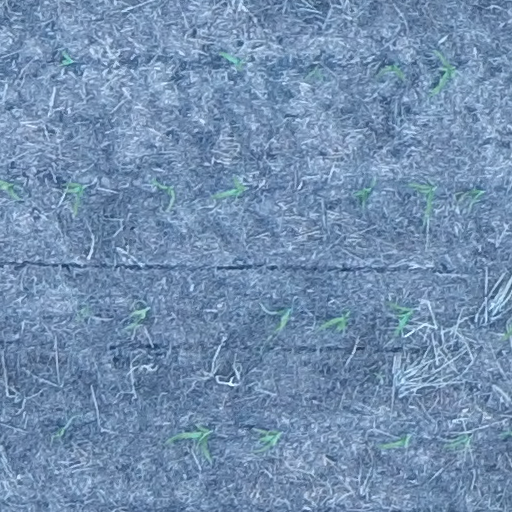planta: (160, 421, 215, 463), (402, 179, 440, 226), (425, 47, 459, 99), (382, 297, 417, 340), (208, 174, 249, 203), (60, 178, 88, 219), (148, 176, 179, 213), (315, 306, 354, 335), (250, 424, 284, 457), (350, 176, 379, 211), (120, 302, 150, 333), (269, 304, 296, 338), (440, 430, 475, 456), (372, 431, 414, 452), (372, 59, 408, 83), (451, 185, 487, 209), (217, 48, 246, 74), (301, 64, 327, 85), (73, 303, 93, 324), (48, 423, 68, 443)
